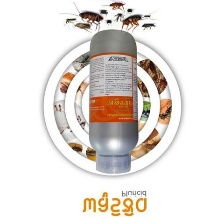insecticide: (84, 28, 141, 176)
